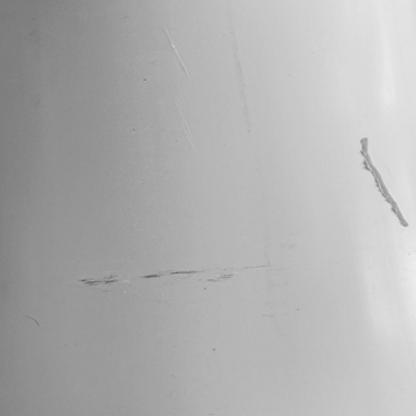sunshang: (358, 133, 411, 230), (81, 268, 229, 287)
